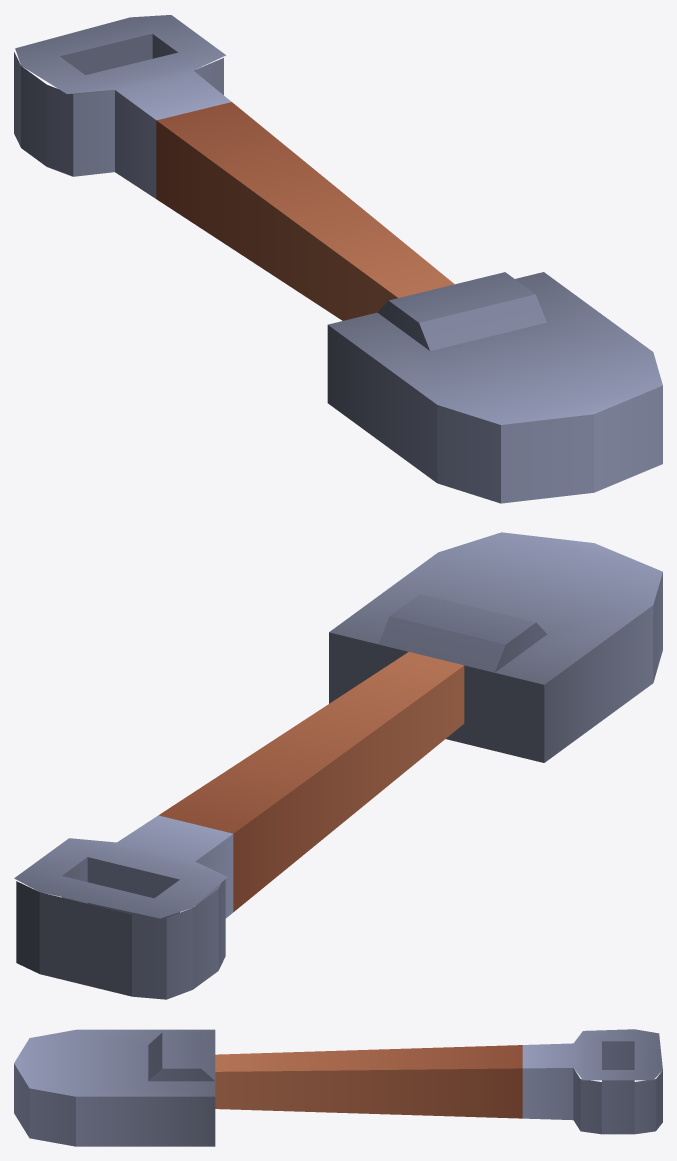
The model's file is shovel.lod.glb.
3 renders of one model, top to bottom at view 1: azimuth 30°, elevation 25°; view 2: azimuth 150°, elevation 25°; view 3: azimuth 270°, elevation 25°, orthographic. The views are drawn at different scales.
Parts seen in each view (by area): view 1: m; view 2: m; view 3: m.
Boxes of the visible parts, x1,y1,x2,y2 form: m: [14, 15, 662, 503]; m: [14, 532, 662, 999]; m: [14, 1029, 662, 1146].
Bounding box in the file's own units: 0.1043 × 0.0455 × 0.4265.
